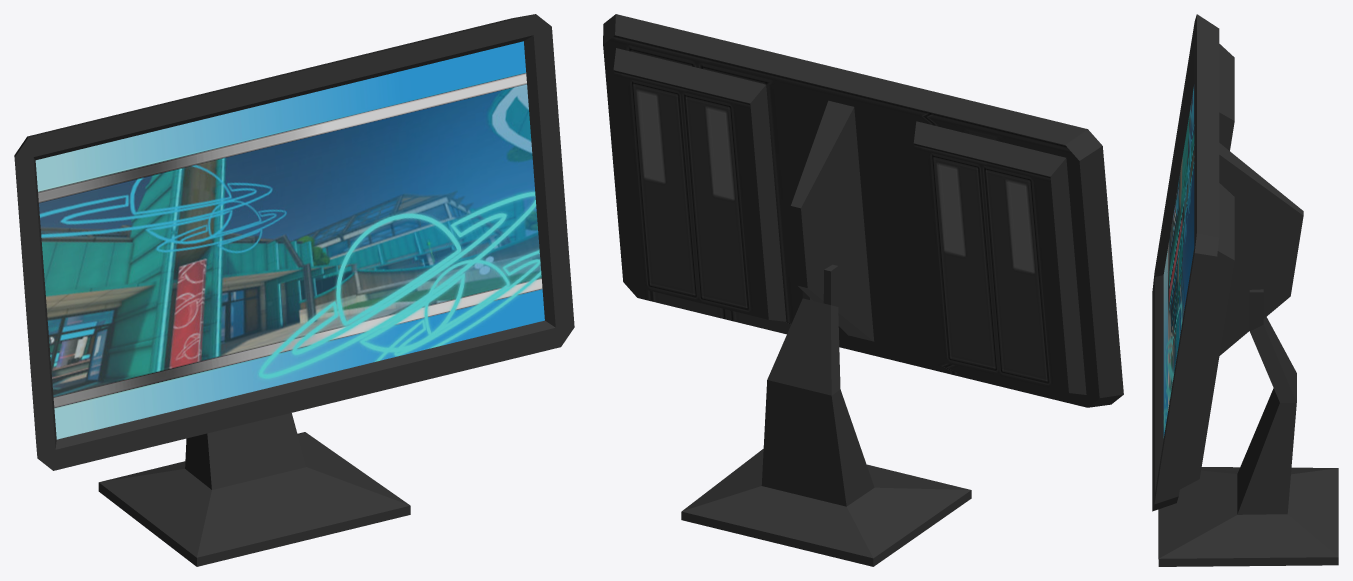
Rendered from DesktopMonitor.fbx.
3 views of the same model, side by side, from view 1: azimuth 30°, elevation 25°; view 2: azimuth 150°, elevation 25°; view 3: azimuth 270°, elevation 25° (orthographic). The views are drawn at different scales.
Visible parts, largest first — view 1: Desktop_Monitor; view 2: Desktop_Monitor; view 3: Desktop_Monitor.
Part boxes in pixels (box(x1,y1,x2,y2)): Desktop_Monitor: box(14, 14, 574, 566); Desktop_Monitor: box(603, 14, 1123, 566); Desktop_Monitor: box(1152, 14, 1338, 566).
Size of the model in its own units: 47.07 by 37.59 by 15.98.
1 material, 1 textured.
